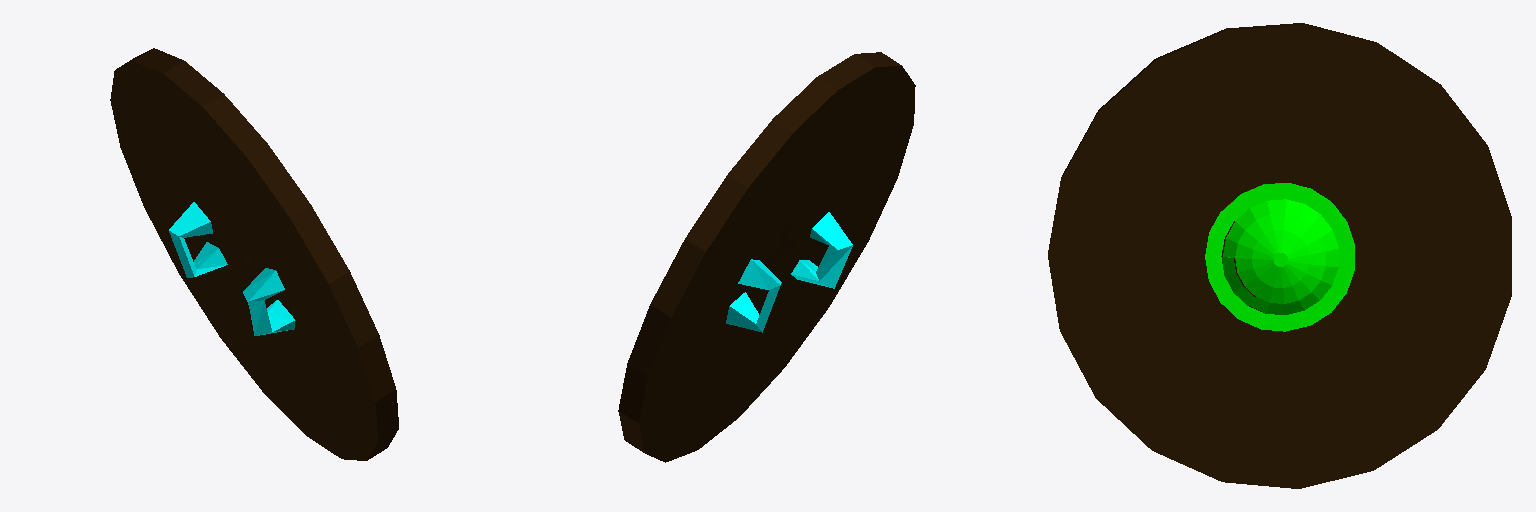
The model's file is shield.obj.
3 views of the same model, side by side, from view 1: azimuth 30°, elevation 25°; view 2: azimuth 150°, elevation 25°; view 3: azimuth 270°, elevation 25° (orthographic).
Parts seen in each view (by area): view 1: pCylinder4; view 2: pCylinder4; view 3: pCylinder4.
Part boxes in pixels (x1,y1,x2,y2): pCylinder4: (110,48,398,460); pCylinder4: (618,52,915,462); pCylinder4: (1048,23,1511,488).
Size of the model in its own units: 2.65 by 6.3 by 6.57.